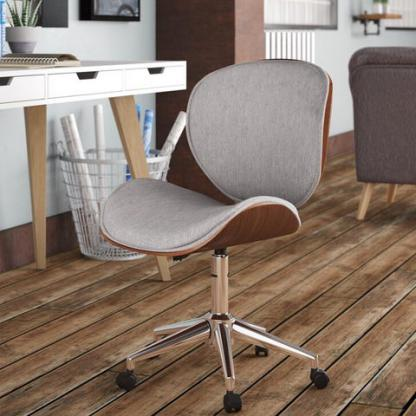chair: (96, 54, 342, 416), (350, 40, 416, 228)
table: (0, 51, 191, 287)
